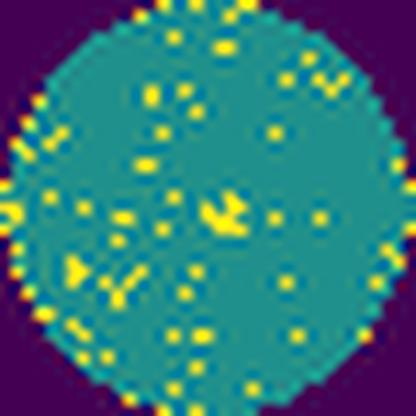Center: (200, 190, 257, 248)
